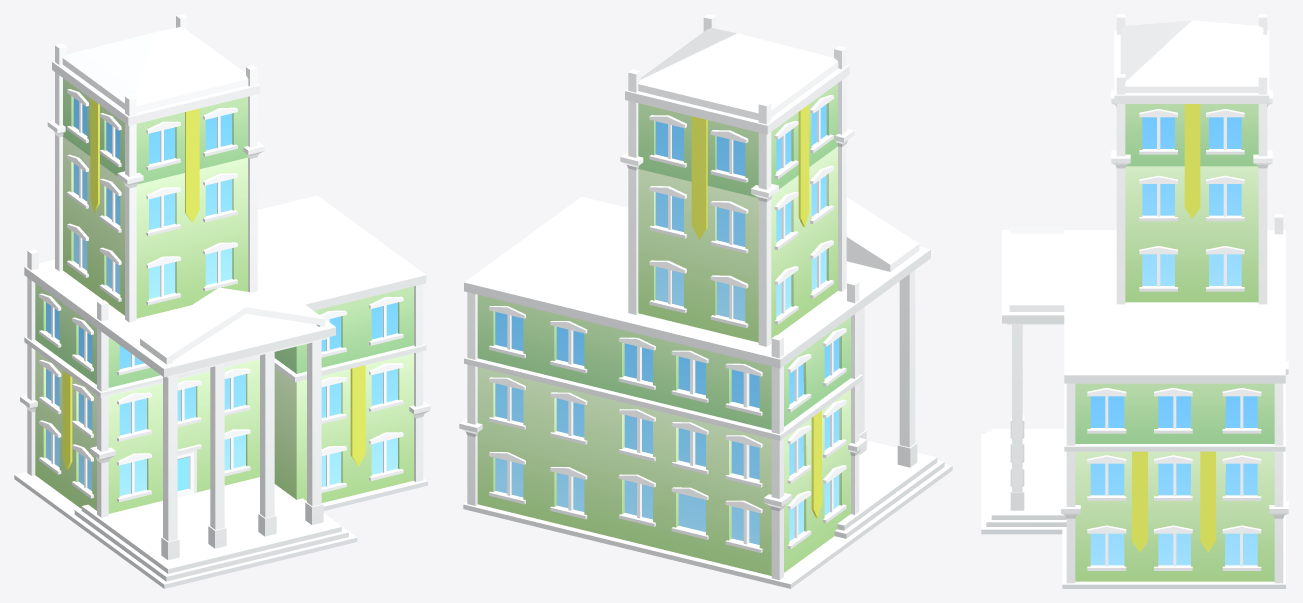
File: Building_State_08.glb
The picture shows the model from 3 angles, left to right: view 1: azimuth 30°, elevation 25°; view 2: azimuth 150°, elevation 25°; view 3: azimuth 270°, elevation 25°; orthographic projection. The views are drawn at different scales.
Parts seen in each view (by area): view 1: Building_State_08; view 2: Building_State_08; view 3: Building_State_08.
Boxes of the visible parts, left/top/right/bottom form: Building_State_08: left=14, top=14, right=430, bottom=588; Building_State_08: left=459, top=14, right=952, bottom=588; Building_State_08: left=981, top=14, right=1288, bottom=588.
Size of the model in its own units: 16.55 by 23.68 by 14.19.
1 material, 1 textured.
